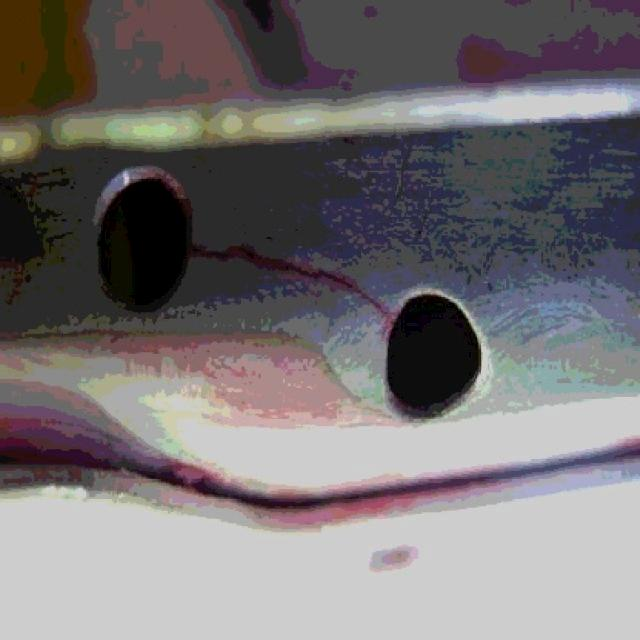crack: (352, 289, 397, 317), (240, 255, 303, 275), (302, 267, 356, 289), (189, 246, 248, 263)
